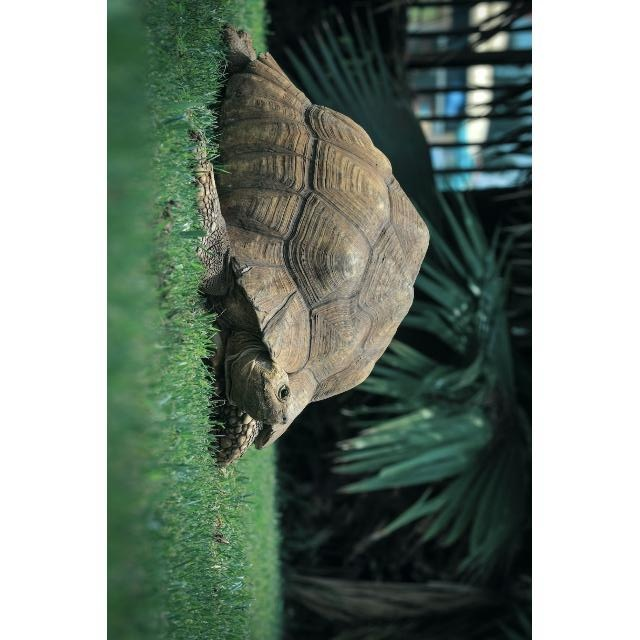turtle: (193, 22, 431, 470)
